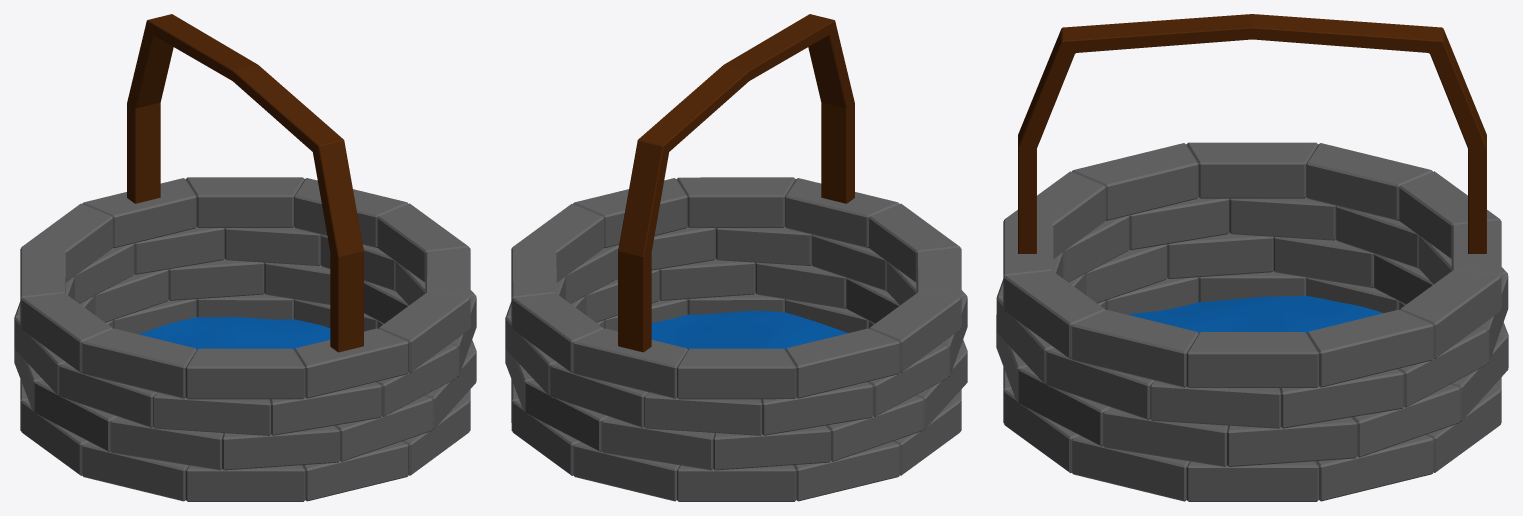
Rendered from Well.fbx.
3 renders of one model, left to right at view 1: azimuth 30°, elevation 25°; view 2: azimuth 150°, elevation 25°; view 3: azimuth 270°, elevation 25°, orthographic. The views are drawn at different scales.
Visible parts, largest first — view 1: Cube, Cube.001, Cube.002, Cube.003, Cube.004, Plane; view 2: Cube, Cube.001, Cube.002, Cube.003, Cube.004, Plane; view 3: Cube, Cube.001, Cube.002, Cube.003, Cube.004, Plane.
Part boxes in pixels (bbox=[...]): Cube: bbox=[20, 177, 470, 399]; Cube.001: bbox=[14, 227, 476, 435]; Cube.002: bbox=[14, 258, 476, 470]; Cube.003: bbox=[20, 293, 470, 501]; Cube.004: bbox=[127, 14, 363, 352]; Plane: bbox=[139, 317, 330, 349]; Cube: bbox=[511, 177, 961, 399]; Cube.001: bbox=[505, 226, 967, 435]; Cube.002: bbox=[505, 258, 967, 470]; Cube.003: bbox=[511, 292, 961, 501]; Cube.004: bbox=[618, 14, 854, 352]; Plane: bbox=[651, 311, 848, 349]; Cube: bbox=[1003, 142, 1501, 387]; Cube.001: bbox=[996, 197, 1508, 428]; Cube.002: bbox=[996, 232, 1508, 466]; Cube.003: bbox=[1003, 271, 1501, 501]; Cube.004: bbox=[1018, 14, 1486, 253]; Plane: bbox=[1127, 295, 1382, 333].
Bounding box in the file's own units: 845 × 686 × 845.
